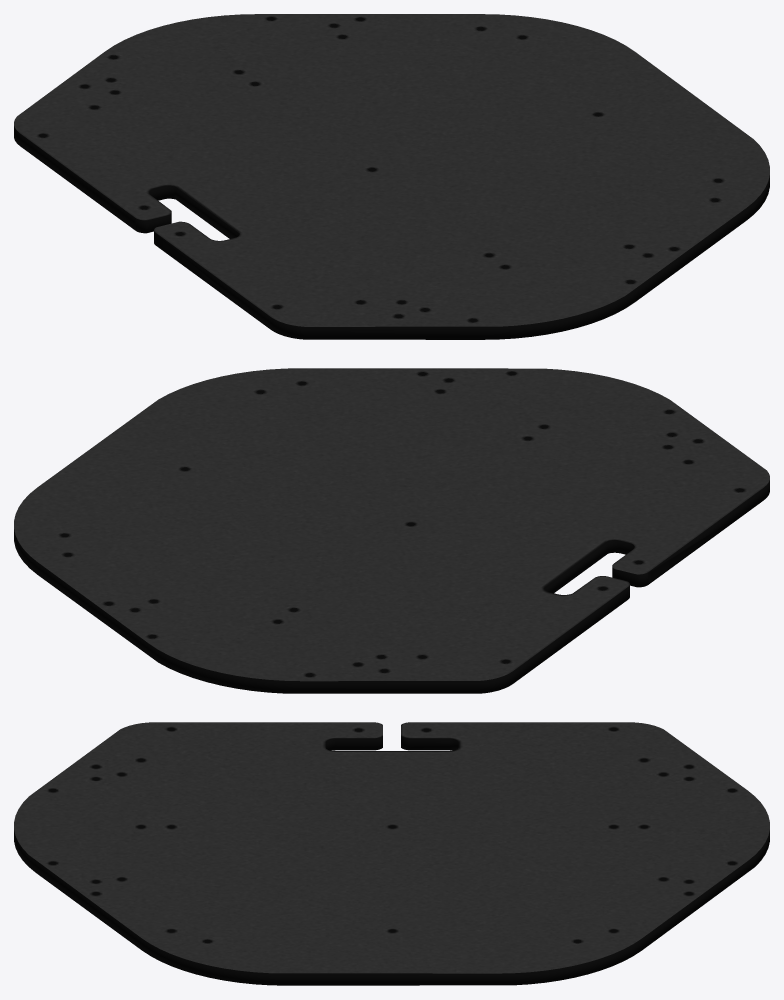
Rendered from plate_bottom.dae.
3 views of the same model, one above another, from view 1: azimuth 30°, elevation 25°; view 2: azimuth 150°, elevation 25°; view 3: azimuth 270°, elevation 25° (orthographic). The views are drawn at different scales.
Visible parts, largest first — view 1: _f_stack; view 2: _f_stack; view 3: _f_stack.
Part boxes in pixels (x1=…): _f_stack: x1=14, y1=14, x2=769, y2=339; _f_stack: x1=14, y1=368, x2=769, y2=693; _f_stack: x1=14, y1=722, x2=769, y2=985.
Bounding box in the file's own units: 0.2673 × 0.3398 × 0.006.
1 material, 1 textured.
